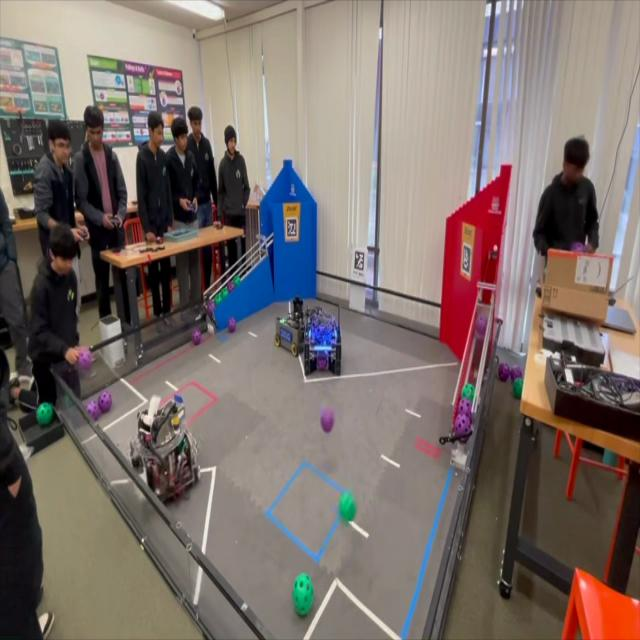artifact_green: (293, 574, 313, 616), (339, 491, 357, 521), (36, 402, 54, 426), (512, 378, 524, 399), (461, 384, 474, 401), (178, 435, 188, 453), (206, 300, 215, 316), (63, 396, 73, 407), (227, 281, 235, 294), (221, 288, 228, 300), (215, 294, 222, 305), (219, 289, 225, 301), (233, 276, 240, 286), (214, 295, 220, 306)
artifact_purple: (454, 414, 471, 439), (321, 408, 334, 432), (98, 391, 112, 413), (86, 400, 100, 421), (78, 350, 91, 371), (457, 399, 472, 417), (498, 362, 510, 382), (476, 316, 487, 336), (510, 366, 522, 381), (206, 300, 216, 316), (317, 356, 328, 370), (571, 242, 586, 252), (192, 329, 201, 345), (228, 318, 236, 333), (227, 281, 235, 293)
